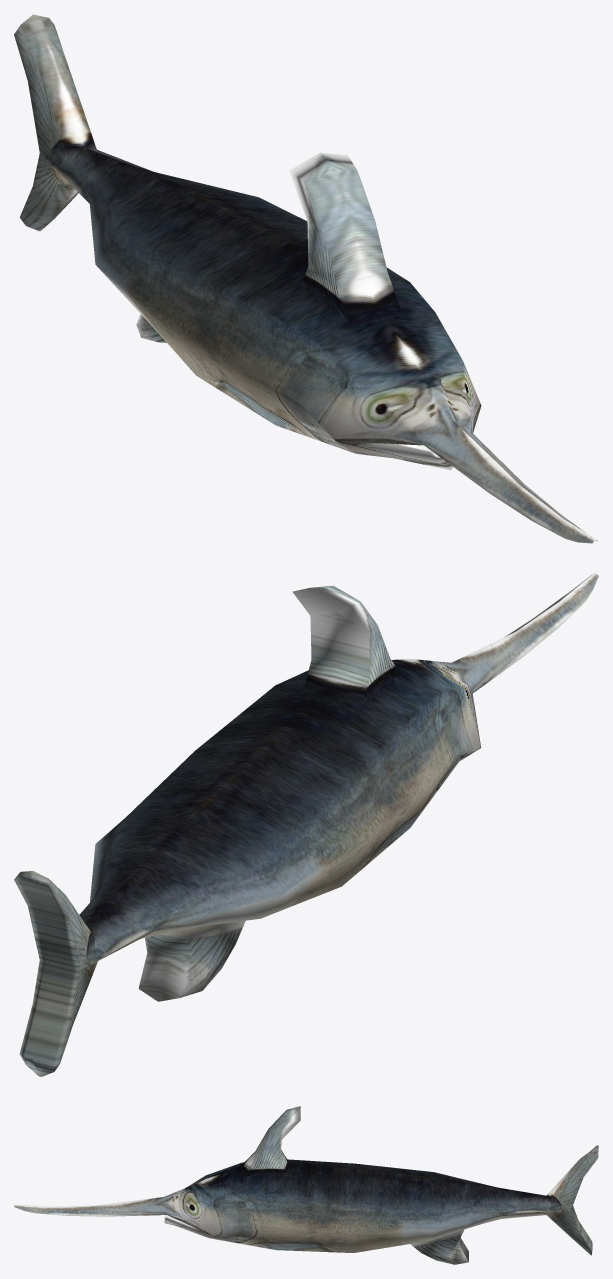
Rendered from SM_sword.fbx.
3 renders of one model, top to bottom at view 1: azimuth 30°, elevation 25°; view 2: azimuth 150°, elevation 25°; view 3: azimuth 270°, elevation 25°, orthographic. The views are drawn at different scales.
Visible parts, largest first — view 1: pSphere4; view 2: pSphere4; view 3: pSphere4.
Part boxes in pixels (left/top/right/bottom): pSphere4: left=14, top=14, right=598, bottom=543; pSphere4: left=14, top=572, right=598, bottom=1077; pSphere4: left=14, top=1106, right=598, bottom=1264.
Bounding box in the file's own units: 2 × 2.75 × 9.45.
Materials: 1 (1 with a texture image).
